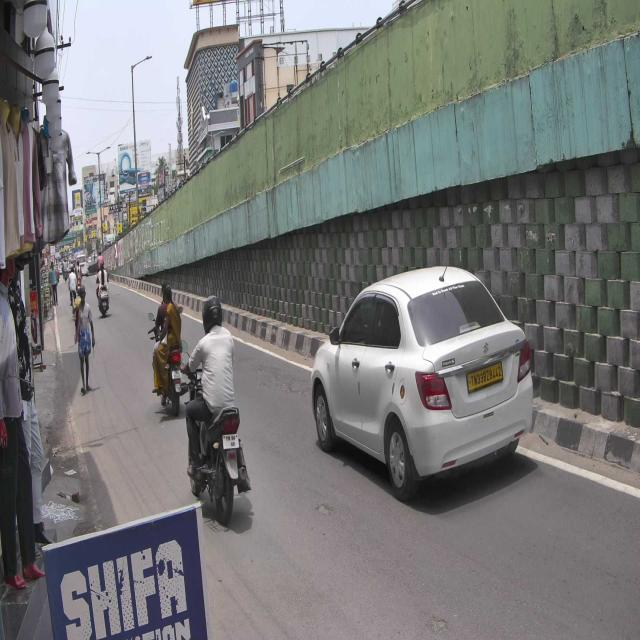single_rider: (178, 289, 250, 528)
